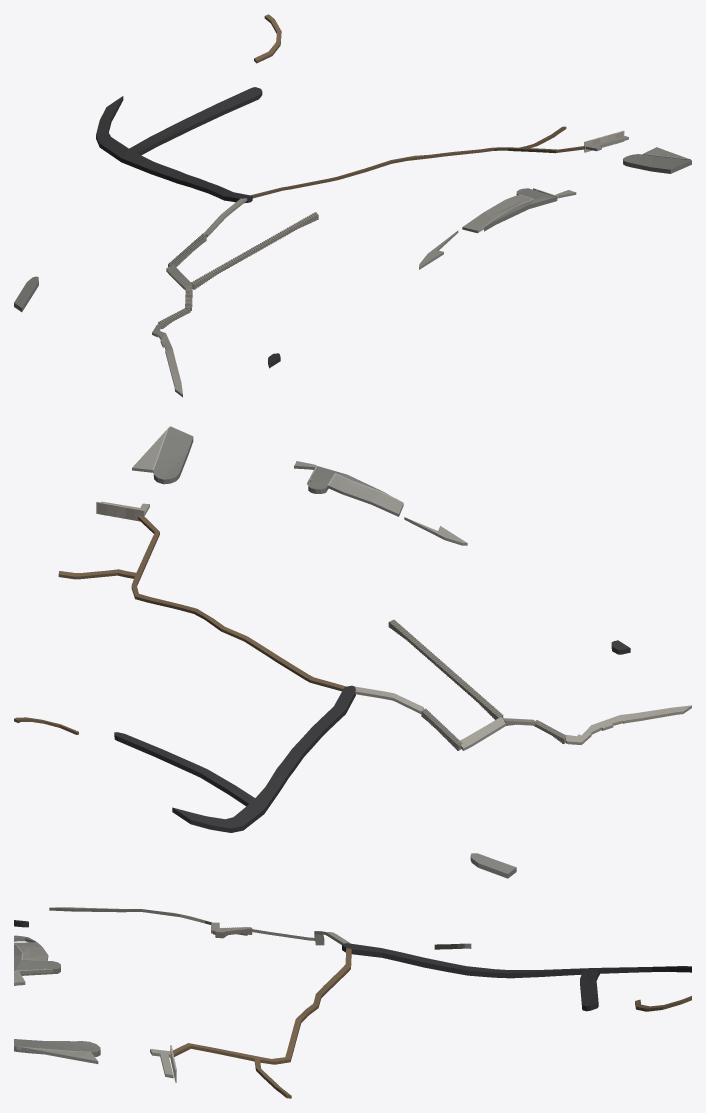
The picture shows the model from 3 angles, top to bottom: view 1: azimuth 30°, elevation 25°; view 2: azimuth 150°, elevation 25°; view 3: azimuth 270°, elevation 25°; orthographic projection. The views are drawn at different scales.
Bounding box in the file's own units: 147 × 45.59 × 146.
